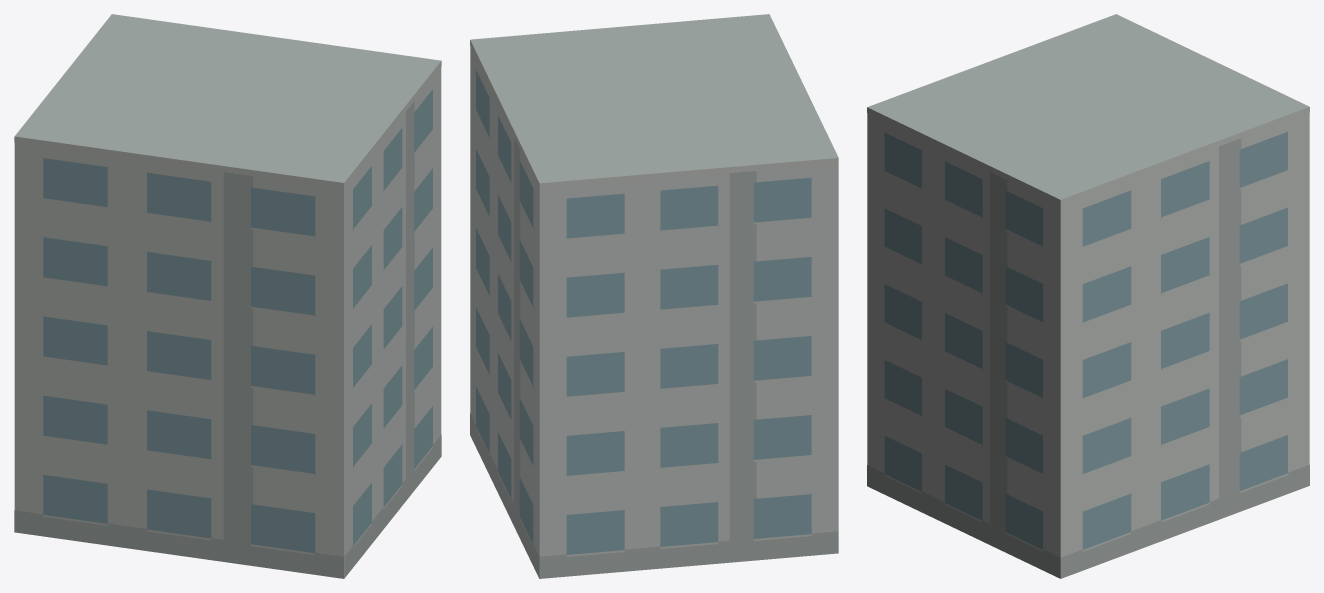
The model's file is survey-upis-32893254.glb.
3 views of the same model, side by side, from view 1: azimuth 30°, elevation 25°; view 2: azimuth 150°, elevation 25°; view 3: azimuth 270°, elevation 25° (orthographic). The views are drawn at different scales.
Parts seen in each view (by area): view 1: survey-upis-32893254.tmp; view 2: survey-upis-32893254.tmp; view 3: survey-upis-32893254.tmp.
Part boxes in pixels (x1,y1,x2,y2): survey-upis-32893254.tmp: [14, 14, 441, 578]; survey-upis-32893254.tmp: [470, 14, 838, 578]; survey-upis-32893254.tmp: [867, 14, 1309, 578].
Size of the model in its own units: 16.73 by 15.9 by 16.84.
